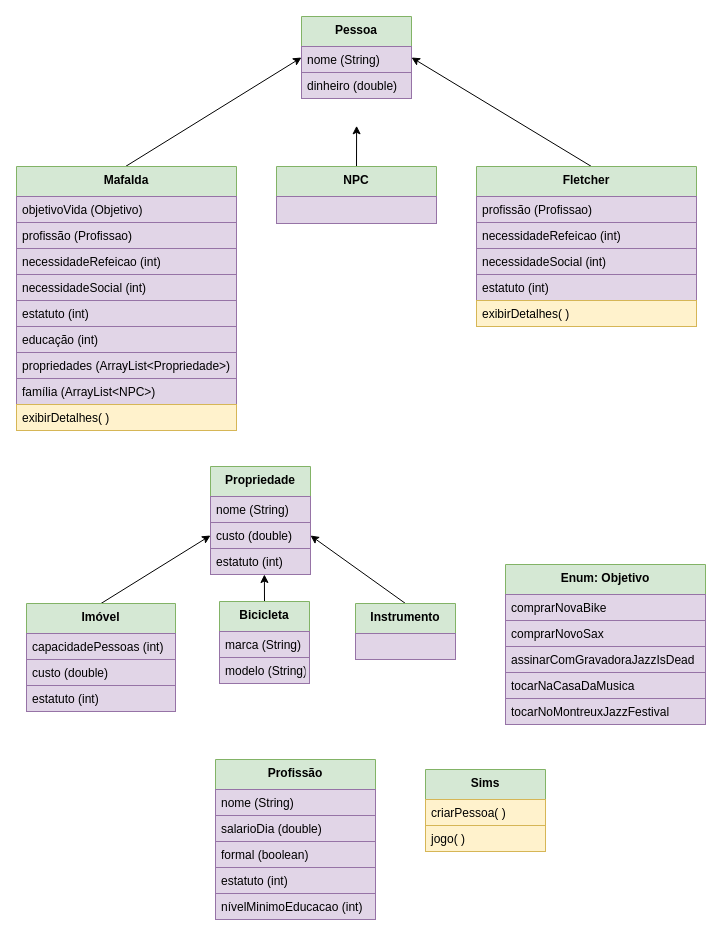
Some shapes in this 722 by 936 pixel diagram are drawn without their labels. The shapes that lost their labels are listed below. From the top down, each one's centre as x and y in pixels, then its label:
At (356,210): "estatutoMinimo (int)".
At (405,646): "tipo(String)".
